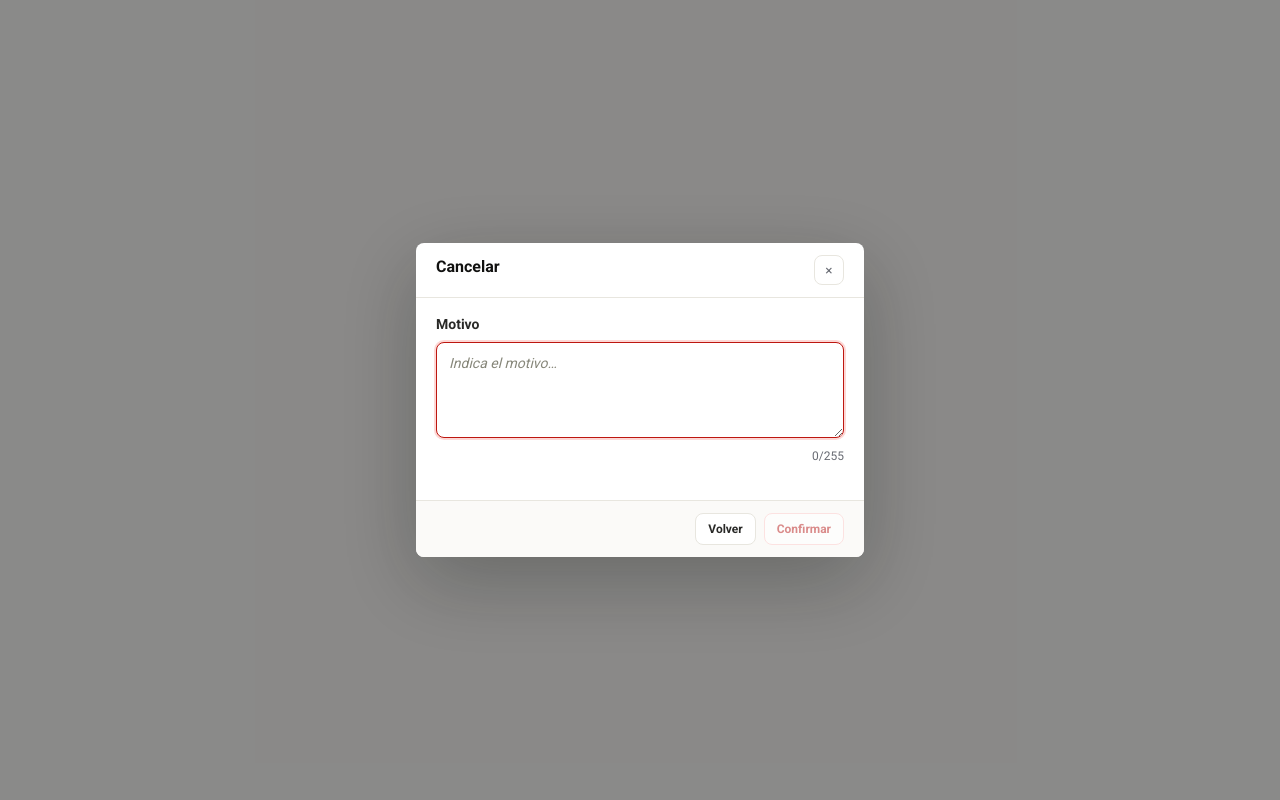
Test: MotivoDialog › an error from the action is shown inside the dialog, which stays open
Type "x" into the text box labelled "Motivo".
click(640, 390); type("x")  # box 436,342 -> 844,438
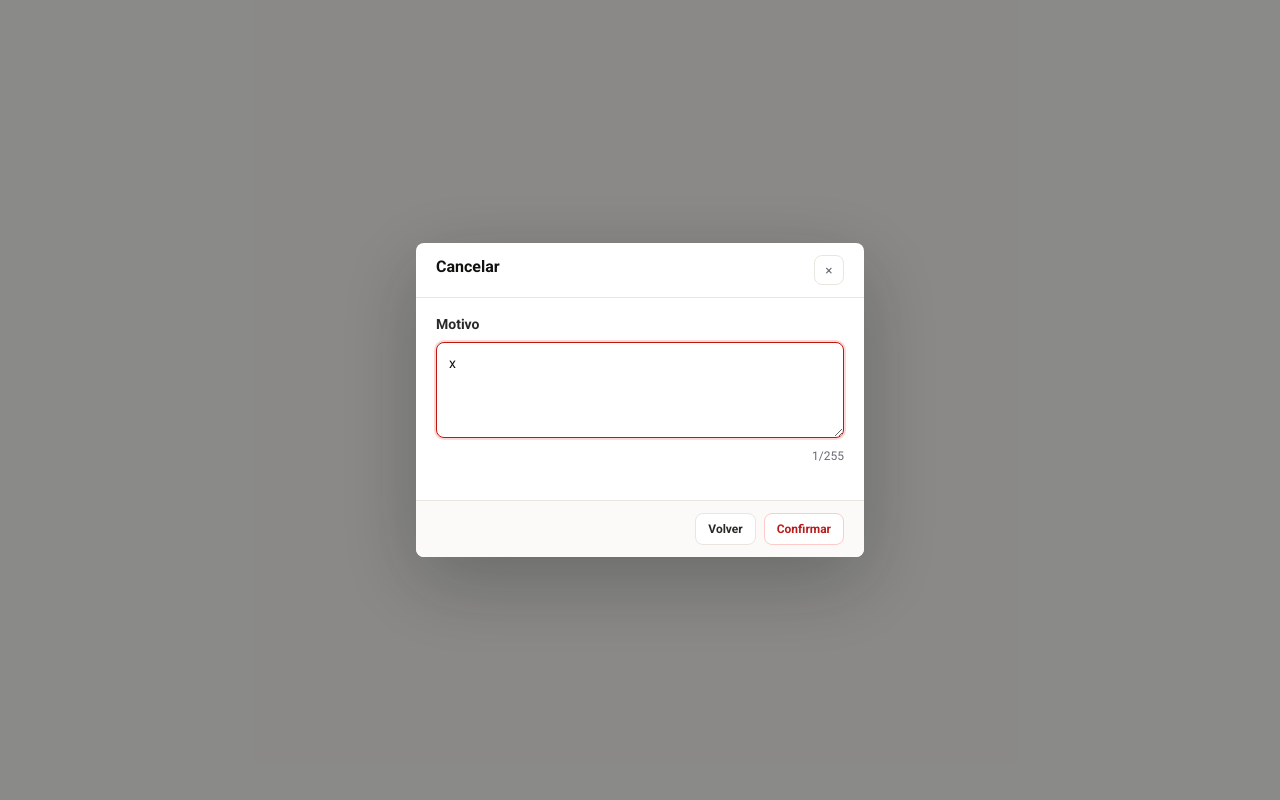
Click the button "Confirmar".
click(804, 529)  # box 764,513 -> 844,545
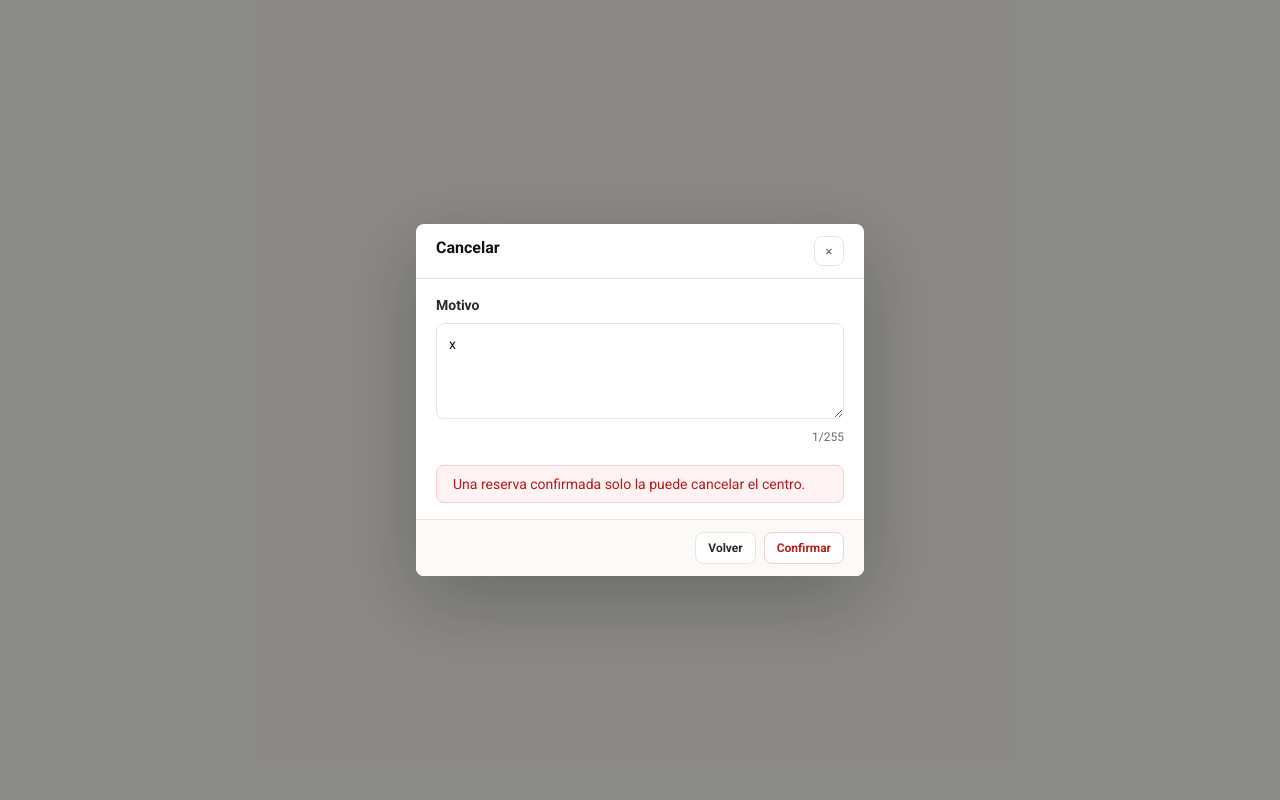
Expected: the dialog is shown, 416,224 -> 864,576
Now the message shows "solo la puede cancelar el centro", box 453,476 -> 805,492
